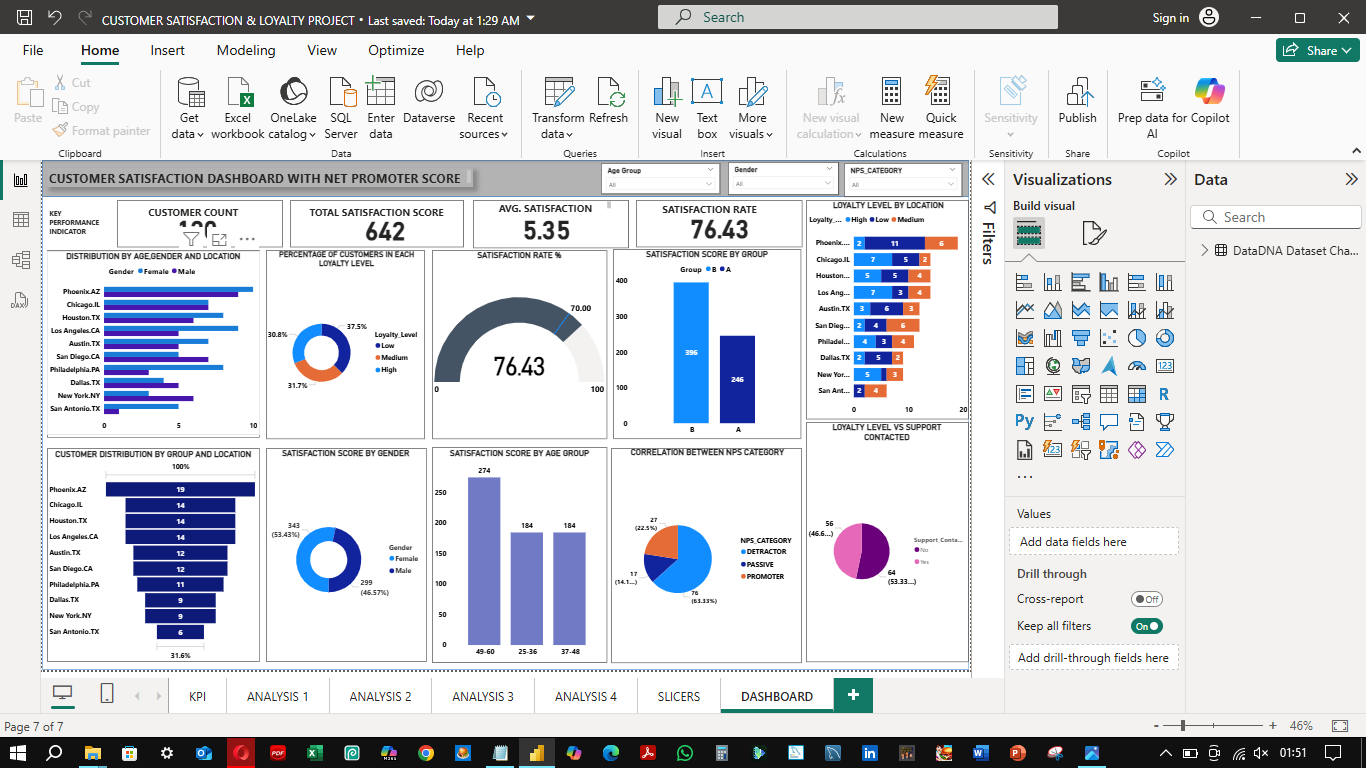

What the dashboard file says about the page in this screenshot:
{"tool":"powerbi","page":{"name":"DASHBOARD","canvas":[2000,1100],"ordinal":6},"visuals":[{"type":"shape","box":[0,0,1999.4,1100],"z":0},{"type":"shape","box":[0,0,1999.4,79.8],"z":1000},{"type":"shape","box":[162,86,358,102],"z":2000},{"type":"shape","box":[535,86,375,102],"z":3000},{"type":"shape","box":[930,86,336,104],"z":4000},{"type":"shape","box":[1280.2,86.4,358.8,101.9],"z":5000},{"type":"shape","box":[10.8,194.1,459.4,405.5],"z":6000},{"type":"shape","box":[483.1,621.2,347.3,461.6],"z":7000},{"type":"shape","box":[841,620,378,465],"z":8000},{"type":"shape","box":[483,194,343,408],"z":9000},{"type":"shape","box":[841,194,378,408],"z":10000},{"type":"shape","box":[1232,192,406,410],"z":11000},{"type":"shape","box":[1227,621,412,464],"z":12000},{"type":"shape","box":[10.8,621.2,459.4,461.6],"z":13000},{"type":"shape","box":[1648,565,351,518],"z":14000},{"type":"shape","box":[1648,86,351,473],"z":15000},{"type":"textbox","box":[10.8,17.3,918.8,41],"z":16000},{"type":"slicer","fields":{"Values":["DataDNA Dataset Challenge - Cus.NPS_CATEGORY"]},"box":[1729.8,6.5,254.5,73.3],"z":17000},{"type":"slicer","fields":{"Values":["DataDNA Dataset Challenge - Cus.Gender"]},"box":[1479.6,4.3,239.4,71.2],"z":18000},{"type":"card","fields":{"Values":["DataDNA Dataset Challenge - Cus.COUNT OF CUSTOMERS"]},"box":[224.3,86.3,220,116.5],"z":19000},{"type":"card","fields":{"Values":["DataDNA Dataset Challenge - Cus.TOTAL SATISFACTION SCORE"]},"box":[599.6,103.5,280.4,84.1],"z":20000},{"type":"card","fields":{"Values":["DataDNA Dataset Challenge - Cus.AVERAGE SATISFACTION SCORE"]},"box":[949,99.2,278.2,90.6],"z":21000},{"type":"card","fields":{"Values":["DataDNA Dataset Challenge - Cus.SATISFACTION RATE %"]},"box":[1322.2,92.7,278.2,97.1],"z":22000},{"type":"textbox","box":[224.3,92.7,232.9,41],"z":23000},{"type":"textbox","box":[949,84.1,282.5,38.8],"z":24000},{"type":"textbox","box":[1322.2,86.3,235.1,38.8],"z":25000},{"type":"textbox","box":[552.2,92.7,338.6,60.4],"z":26000},{"type":"slicer","fields":{"Values":["DataDNA Dataset Challenge - Cus.Age Group"]},"box":[1205.7,6.5,256.7,66.9],"z":27000},{"type":"textbox","box":[11,99,129,85],"z":28000},{"type":"columnChart","title":"SATISFACTION SCORE BY GROUP","fields":{"Category":["DataDNA Dataset Challenge - Cus.Group"],"Y":["Sum(DataDNA Dataset Challenge - Cus.Satisfaction_Score)"],"Series":["DataDNA Dataset Challenge - Cus.Group"]},"box":[1231.5,192.7,405.3,409.7],"z":29000},{"type":"barChart","title":"LOYALTY LEVEL BY LOCATION","fields":{"Category":["DataDNA Dataset Challenge - Cus.Location"],"Y":["CountNonNull(DataDNA Dataset Challenge - Cus.Loyalty_Level)"],"Series":["DataDNA Dataset Challenge - Cus.Loyalty_Level"]},"box":[1649,86,351,473],"z":30000},{"type":"gauge","fields":{"Y":["DataDNA Dataset Challenge - Cus.SATISFACTION RATE %"]},"box":[841.6,194.9,376.5,398.7],"z":31000},{"type":"donutChart","title":"PERCENTAGE OF CUSTOMERS IN EACH LOYALTY LEVEL","fields":{"Category":["DataDNA Dataset Challenge - Cus.Loyalty_Level"],"Y":["CountNonNull(DataDNA Dataset Challenge - Cus.Loyalty_Level)"]},"box":[482.8,194.9,347.7,405.3],"z":32000},{"type":"pieChart","title":"CORRELATION BETWEEN NPS CATEGORY","fields":{"Category":["DataDNA Dataset Challenge - Cus.NPS_CATEGORY"],"Y":["DataDNA Dataset Challenge - Cus.COUNT OF DETRACTOR","DataDNA Dataset Challenge - Cus.COUNT OF PASSIVE","DataDNA Dataset Challenge - Cus.COUNT OF PROMOTER"]},"box":[1231,620,407,463],"z":33000},{"type":"clusteredBarChart","title":"DISTRIBUTION BY AGE,GENDER AND LOCATION","fields":{"Series":["DataDNA Dataset Challenge - Cus.Gender"],"Category":["DataDNA Dataset Challenge - Cus.Location"],"Y":["CountNonNull(DataDNA Dataset Challenge - Cus.Age Group)"]},"box":[11.1,197.1,458.5,396.5],"z":34000},{"type":"funnel","title":"CUSTOMER DISTRIBUTION BY GROUP AND LOCATION","fields":{"Category":["DataDNA Dataset Challenge - Cus.Location"],"Y":["CountNonNull(DataDNA Dataset Challenge - Cus.Group)"]},"box":[11.1,622.4,458.5,460.7],"z":35000},{"type":"donutChart","title":"SATISFACTION SCORE BY GENDER","fields":{"Category":["DataDNA Dataset Challenge - Cus.Gender"],"Y":["Sum(DataDNA Dataset Challenge - Cus.Satisfaction_Score)"]},"box":[482.8,620.2,343.3,460.7],"z":36000},{"type":"columnChart","title":"SATISFACTION SCORE BY AGE GROUP","fields":{"Category":["DataDNA Dataset Challenge - Cus.Age Group"],"Y":["Sum(DataDNA Dataset Challenge - Cus.Satisfaction_Score)"]},"box":[841,622,377,459],"z":37000},{"type":"pieChart","title":"LOYALTY LEVEL VS SUPPORT CONTACTED","fields":{"Category":["DataDNA Dataset Challenge - Cus.Support_Contacted"],"Y":["CountNonNull(DataDNA Dataset Challenge - Cus.Loyalty_Level)"]},"box":[1651,565,345,516],"z":38000}]}

Visuals, with their boxes on the page's 2000x1100 design canvas (x1, y1, x2, y2). These are canvas units, not pixel positions in the 1366x768 screenshot, which may show the page scaled, cropped or inside an application window:
shape: <region>0, 0, 1999, 1100</region>
shape: <region>0, 0, 1999, 80</region>
shape: <region>162, 86, 520, 188</region>
shape: <region>535, 86, 910, 188</region>
shape: <region>930, 86, 1266, 190</region>
shape: <region>1280, 86, 1639, 188</region>
shape: <region>11, 194, 470, 600</region>
shape: <region>483, 621, 830, 1083</region>
shape: <region>841, 620, 1219, 1085</region>
shape: <region>483, 194, 826, 602</region>
shape: <region>841, 194, 1219, 602</region>
shape: <region>1232, 192, 1638, 602</region>
shape: <region>1227, 621, 1639, 1085</region>
shape: <region>11, 621, 470, 1083</region>
shape: <region>1648, 565, 1999, 1083</region>
shape: <region>1648, 86, 1999, 559</region>
textbox: <region>11, 17, 930, 58</region>
slicer - DataDNA Dataset Challenge - Cus.NPS_CATEGORY: <region>1730, 6, 1984, 80</region>
slicer - DataDNA Dataset Challenge - Cus.Gender: <region>1480, 4, 1719, 76</region>
card - DataDNA Dataset Challenge - Cus.COUNT OF CUSTOMERS: <region>224, 86, 444, 203</region>
card - DataDNA Dataset Challenge - Cus.TOTAL SATISFACTION SCORE: <region>600, 104, 880, 188</region>
card - DataDNA Dataset Challenge - Cus.AVERAGE SATISFACTION SCORE: <region>949, 99, 1227, 190</region>
card - DataDNA Dataset Challenge - Cus.SATISFACTION RATE %: <region>1322, 93, 1600, 190</region>
textbox: <region>224, 93, 457, 134</region>
textbox: <region>949, 84, 1232, 123</region>
textbox: <region>1322, 86, 1557, 125</region>
textbox: <region>552, 93, 891, 153</region>
slicer - DataDNA Dataset Challenge - Cus.Age Group: <region>1206, 6, 1462, 73</region>
textbox: <region>11, 99, 140, 184</region>
"SATISFACTION SCORE BY GROUP" columnChart: <region>1232, 193, 1637, 602</region>
"LOYALTY LEVEL BY LOCATION" barChart: <region>1649, 86, 2000, 559</region>
gauge - DataDNA Dataset Challenge - Cus.SATISFACTION RATE %: <region>842, 195, 1218, 594</region>
"PERCENTAGE OF CUSTOMERS IN EACH LOYALTY LEVEL" donutChart: <region>483, 195, 830, 600</region>
"CORRELATION BETWEEN NPS CATEGORY" pieChart: <region>1231, 620, 1638, 1083</region>
"DISTRIBUTION BY AGE,GENDER AND LOCATION" clusteredBarChart: <region>11, 197, 470, 594</region>
"CUSTOMER DISTRIBUTION BY GROUP AND LOCATION" funnel: <region>11, 622, 470, 1083</region>
"SATISFACTION SCORE BY GENDER" donutChart: <region>483, 620, 826, 1081</region>
"SATISFACTION SCORE BY AGE GROUP" columnChart: <region>841, 622, 1218, 1081</region>
"LOYALTY LEVEL VS SUPPORT CONTACTED" pieChart: <region>1651, 565, 1996, 1081</region>
